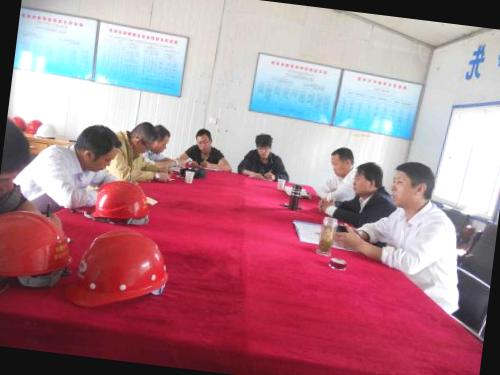no_helmet: (0, 113, 41, 212), (385, 154, 440, 216), (68, 118, 124, 178), (350, 156, 386, 200), (125, 119, 159, 160), (324, 142, 358, 180), (248, 130, 278, 161), (150, 122, 173, 157), (192, 125, 215, 155)
